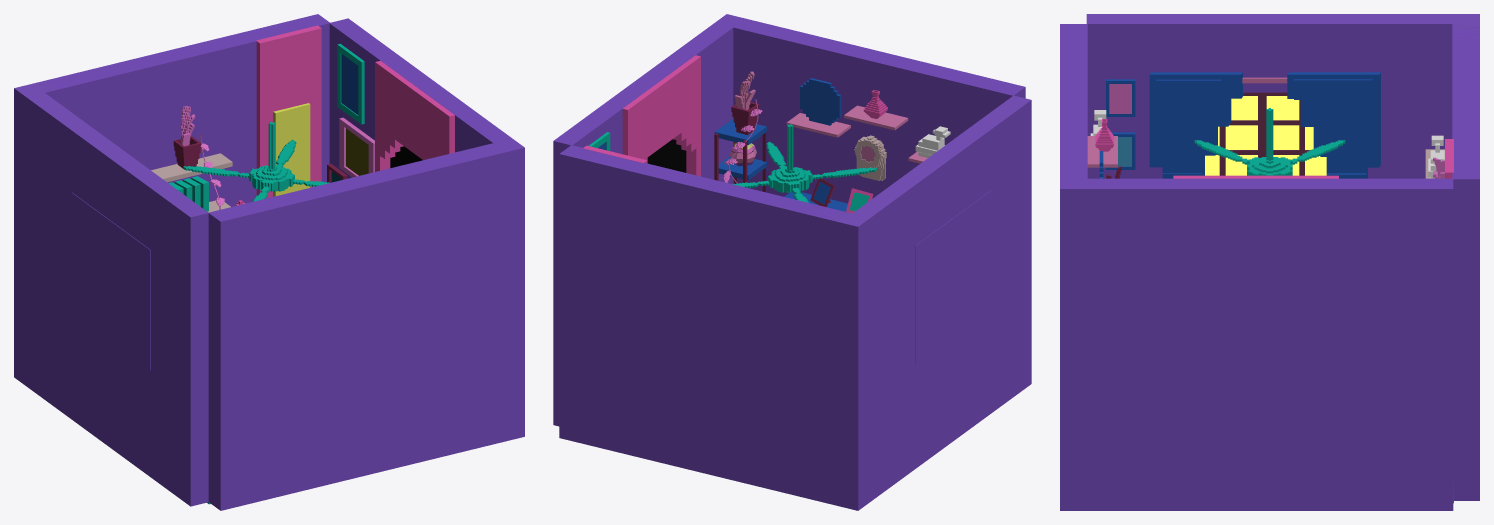
Rendered from Tutorial Level.fbx.
3 renders of one model, left to right at view 1: azimuth 30°, elevation 25°; view 2: azimuth 150°, elevation 25°; view 3: azimuth 270°, elevation 25°, orthographic. The views are drawn at different scales.
Visible parts, largest first — view 1: Pared y suelo secundaria, Pared secundaria, Objetos pard principal, Objetos pared secundaria, ventilador.002; view 2: Pared secundaria, Pared y suelo secundaria, Objetos pared secundaria, ventilador.002; view 3: Pared y suelo secundaria, Pared secundaria, Objetos pard principal, ventilador.002, Objetos pared secundaria.
Part boxes in pixels (x1,y1,x2,y2): Pared y suelo secundaria: [207, 18, 524, 510]; Pared secundaria: [14, 14, 329, 506]; Objetos pard principal: [151, 25, 321, 212]; Objetos pared secundaria: [327, 43, 374, 182]; ventilador.002: [183, 122, 329, 201]; Pared secundaria: [559, 95, 1031, 510]; Pared y suelo secundaria: [553, 14, 1025, 426]; Objetos pared secundaria: [588, 71, 950, 213]; ventilador.002: [733, 124, 877, 202]; Pared y suelo secundaria: [1060, 24, 1453, 510]; Pared secundaria: [1086, 14, 1479, 503]; Objetos pard principal: [1106, 72, 1453, 178]; ventilador.002: [1194, 108, 1345, 175]; Objetos pared secundaria: [1087, 110, 1117, 178].
Size of the model in its own units: 226 by 195 by 228.
